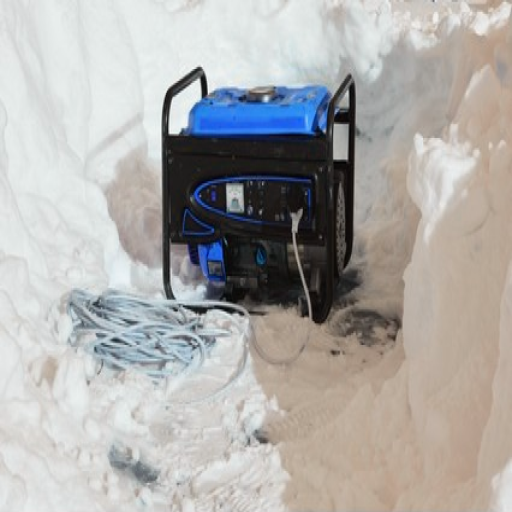portable_generator: (161, 68, 358, 326)
